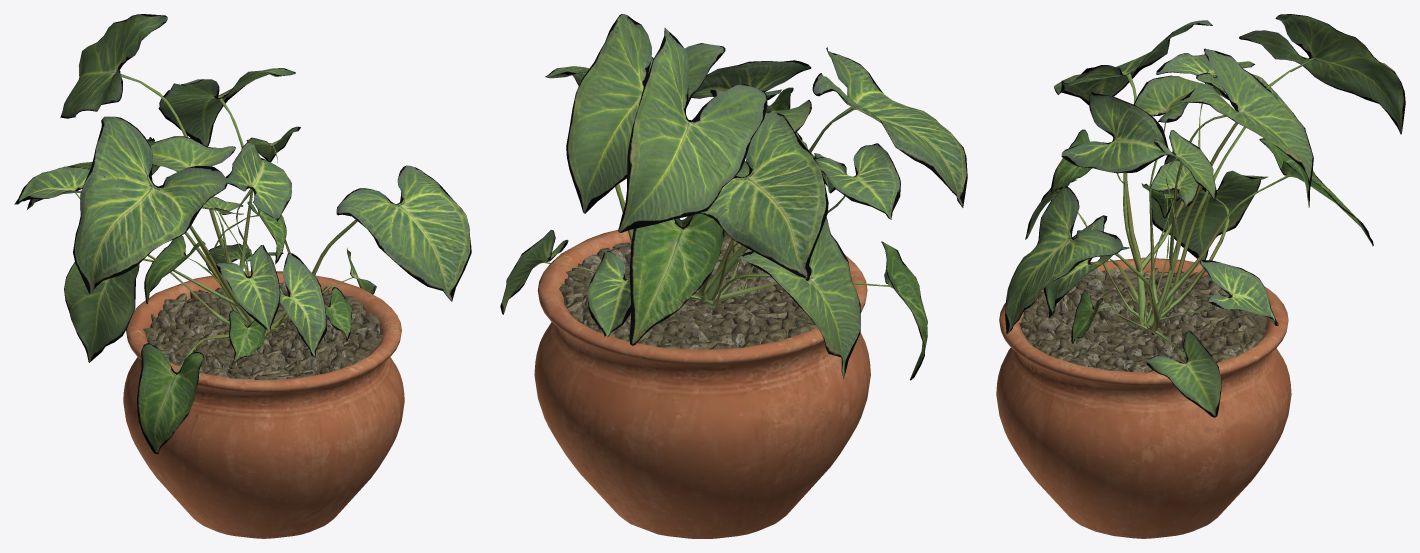
Rendered from potted_plant_02.glb.
3 renders of one model, left to right at view 1: azimuth 30°, elevation 25°; view 2: azimuth 150°, elevation 25°; view 3: azimuth 270°, elevation 25°, orthographic. The views are drawn at different scales.
Visible parts, largest first — view 1: potted_plant_02_leaves, potted_plant_02_pot; view 2: potted_plant_02_leaves, potted_plant_02_pot; view 3: potted_plant_02_pot, potted_plant_02_leaves.
Boxes of the visible parts, left/top/right/bottom form: potted_plant_02_leaves: left=14, top=14, right=471, bottom=453; potted_plant_02_pot: left=123, top=271, right=404, bottom=538; potted_plant_02_leaves: left=500, top=14, right=967, bottom=380; potted_plant_02_pot: left=534, top=220, right=870, bottom=538; potted_plant_02_pot: left=996, top=257, right=1291, bottom=538; potted_plant_02_leaves: left=1005, top=14, right=1405, bottom=417.
Bounding box in the file's own units: 0.7009 × 0.8412 × 0.6574.
2 materials, 2 textured.
